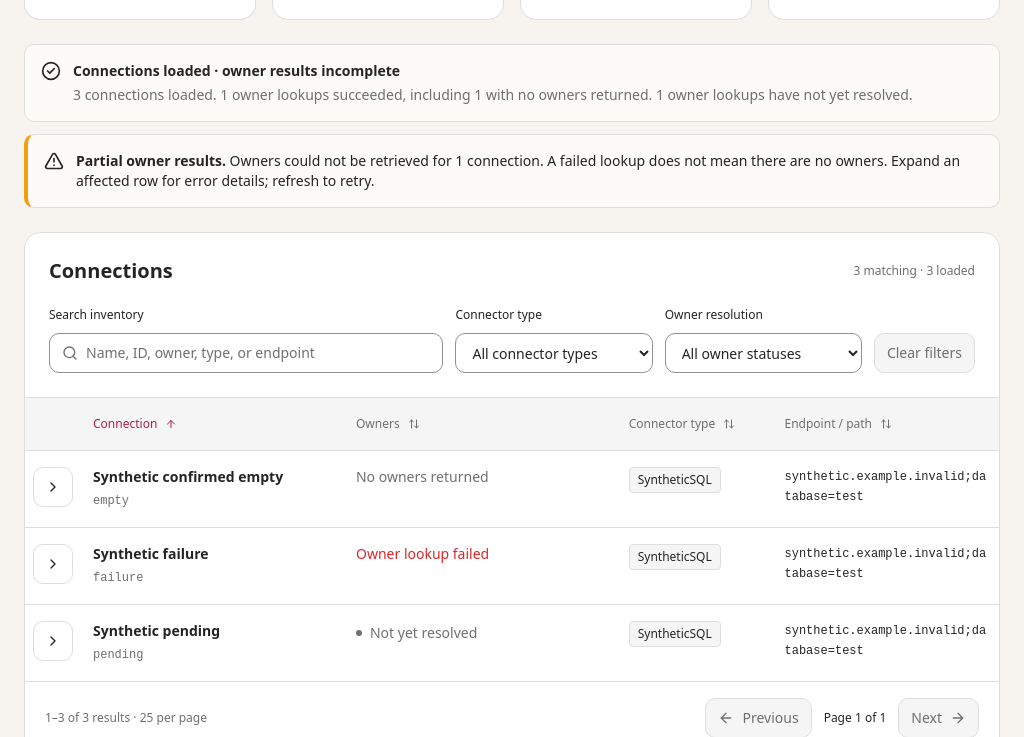
Connection inventory › excludes pending and failed lookups from the no-owner filter
(page scrolled)
Check: the text "Synthetic confirmed empty" is shown, box 93,467 -> 283,486
Select "Resolved · no owners returned" in the dropdown labelled "Owner resolution" at x=763, y=353, box 665,333 -> 862,373
(page scrolled)
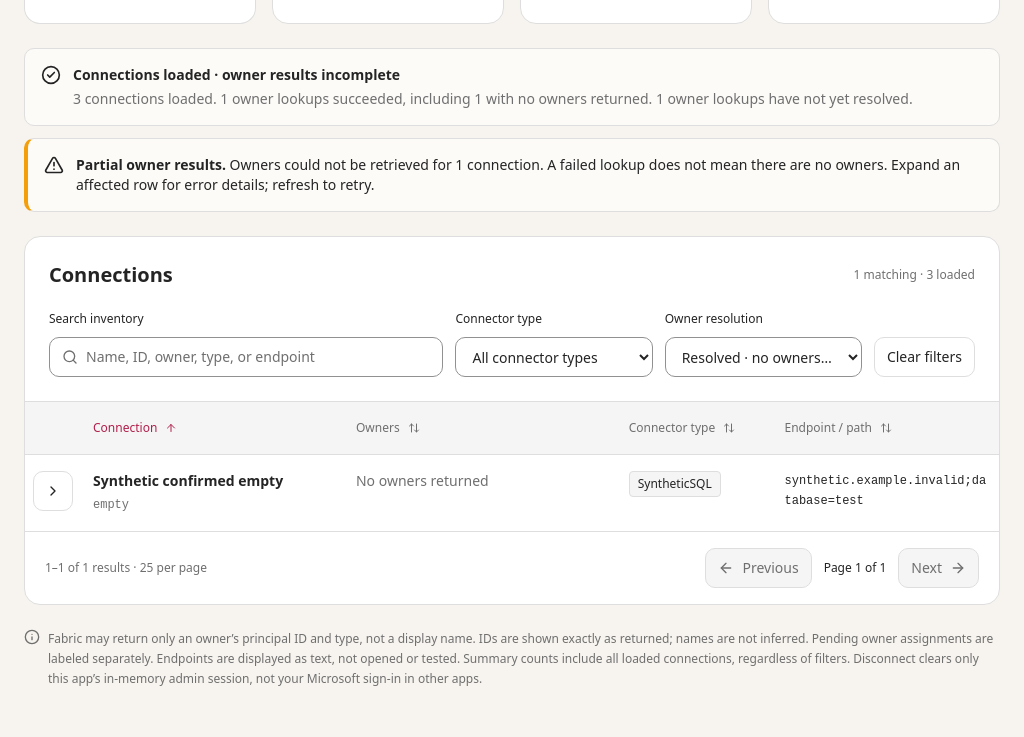
Check: the text "Synthetic confirmed empty" is shown, box 93,471 -> 283,490
Check: the text "Synthetic failure" is gone
Check: the text "Synthetic pending" is gone
